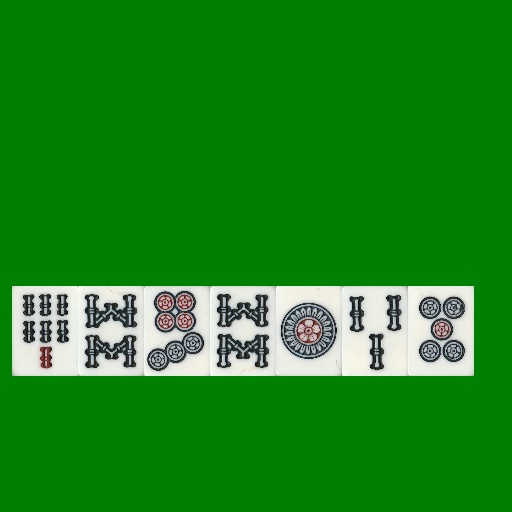1p: (276, 286, 342, 376)
3s: (342, 286, 408, 376)
5p: (408, 286, 474, 376)
7p: (144, 286, 210, 376)
7s: (12, 286, 78, 376)
8s: (78, 286, 144, 376), (210, 286, 276, 376)
